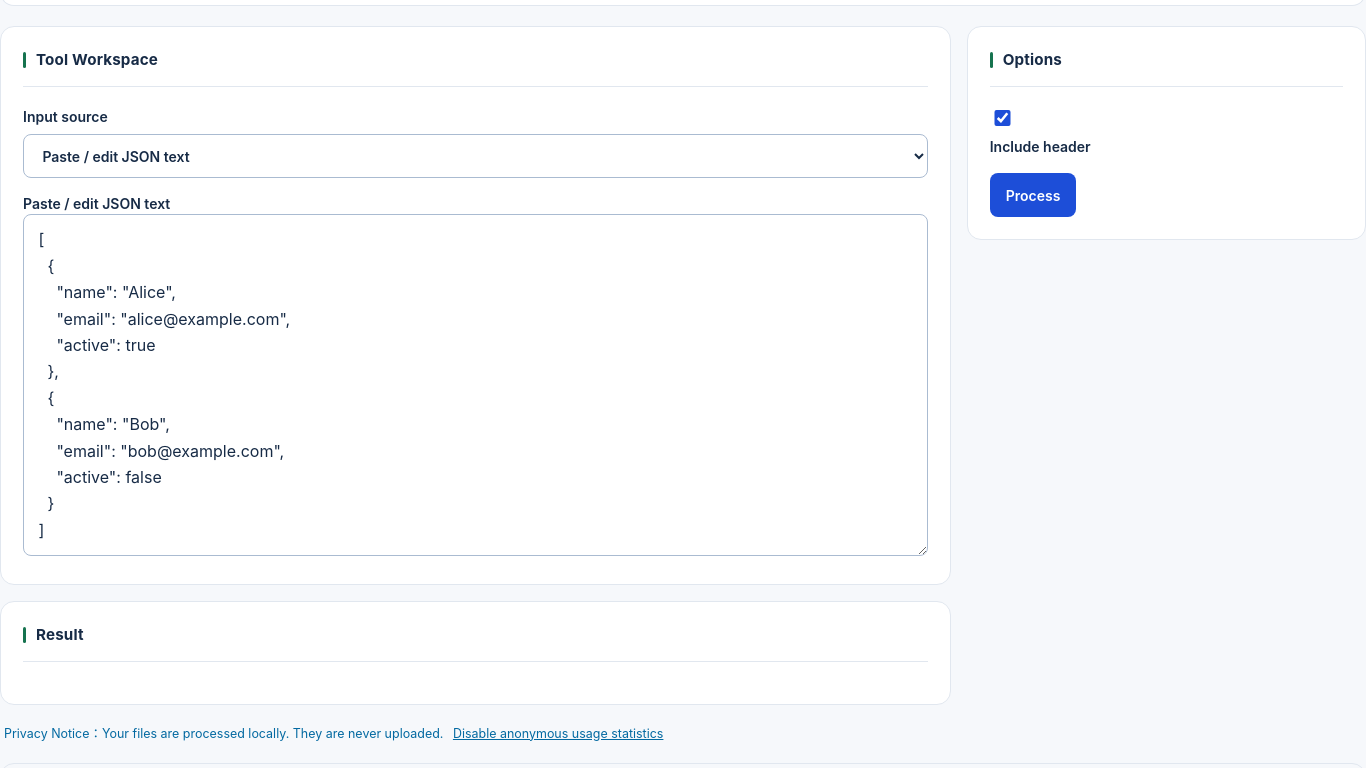
JsonToCsvPage › disables processing when the selected input source is empty
(page scrolled)
Clear the text box labelled "Paste / edit JSON text" at (475, 385), box 23,214 -> 928,556
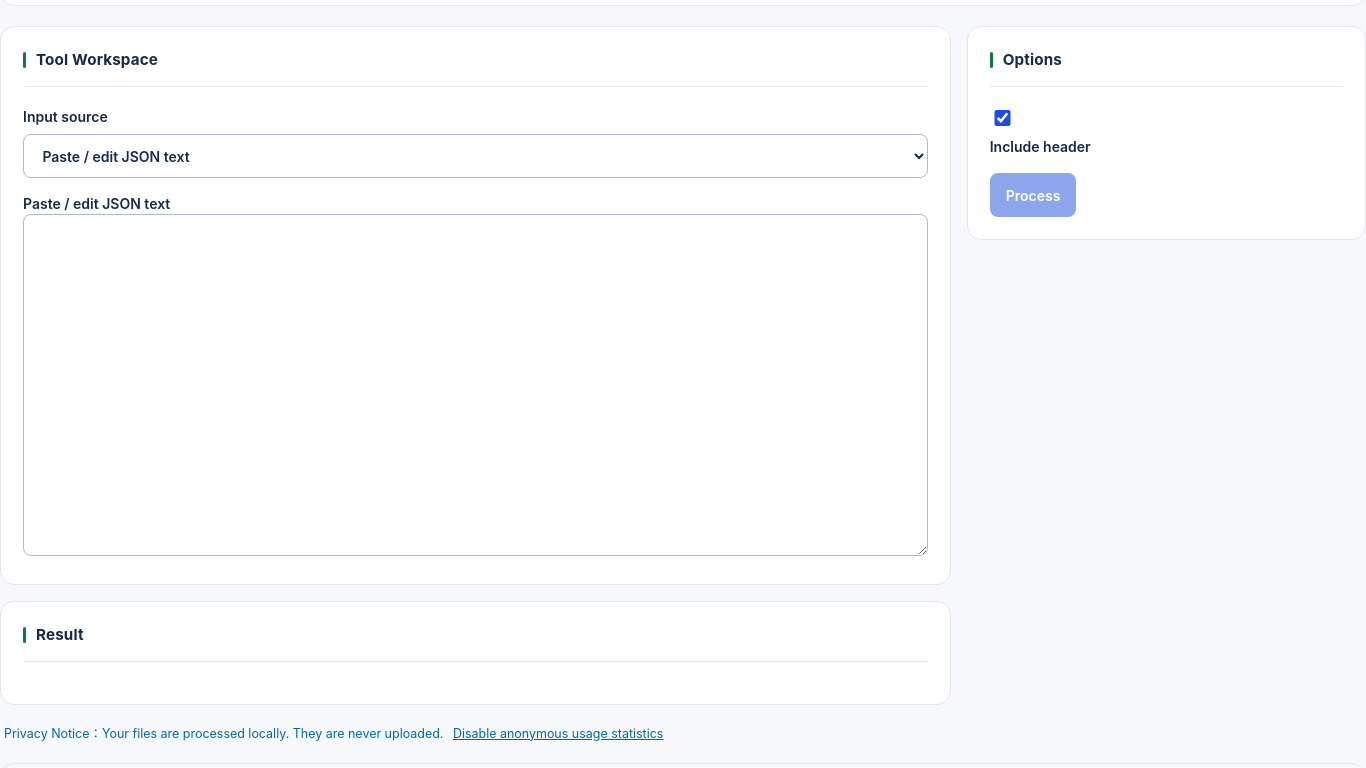
Check: the button "Process" is disabled, box 990,173 -> 1076,217
